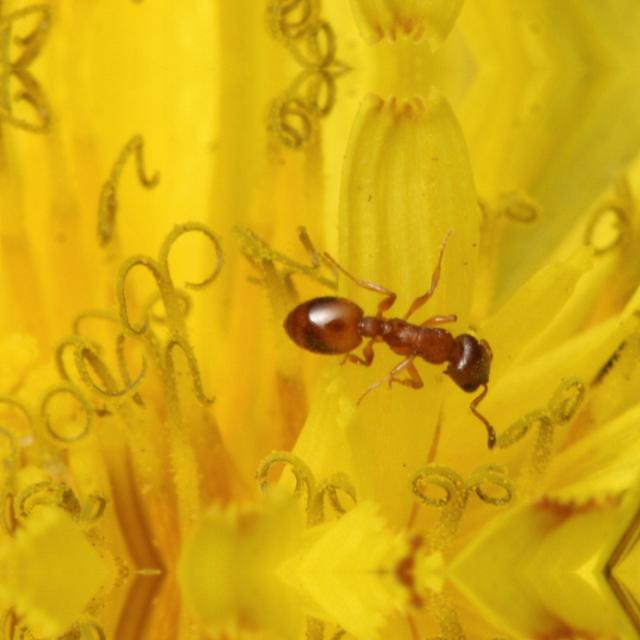Temnothorax: (266, 252, 518, 424)
